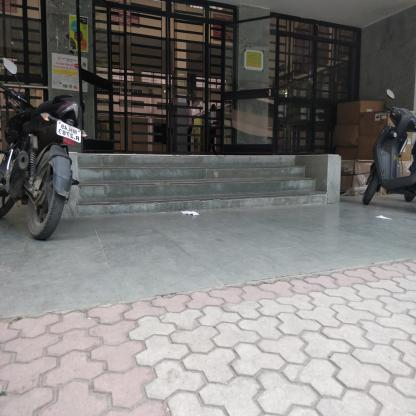stairs: (92, 156, 294, 223)
